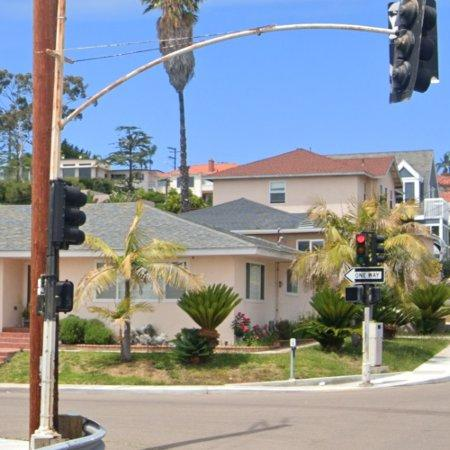traffic lights: (52, 179, 87, 250), (415, 0, 440, 91)
